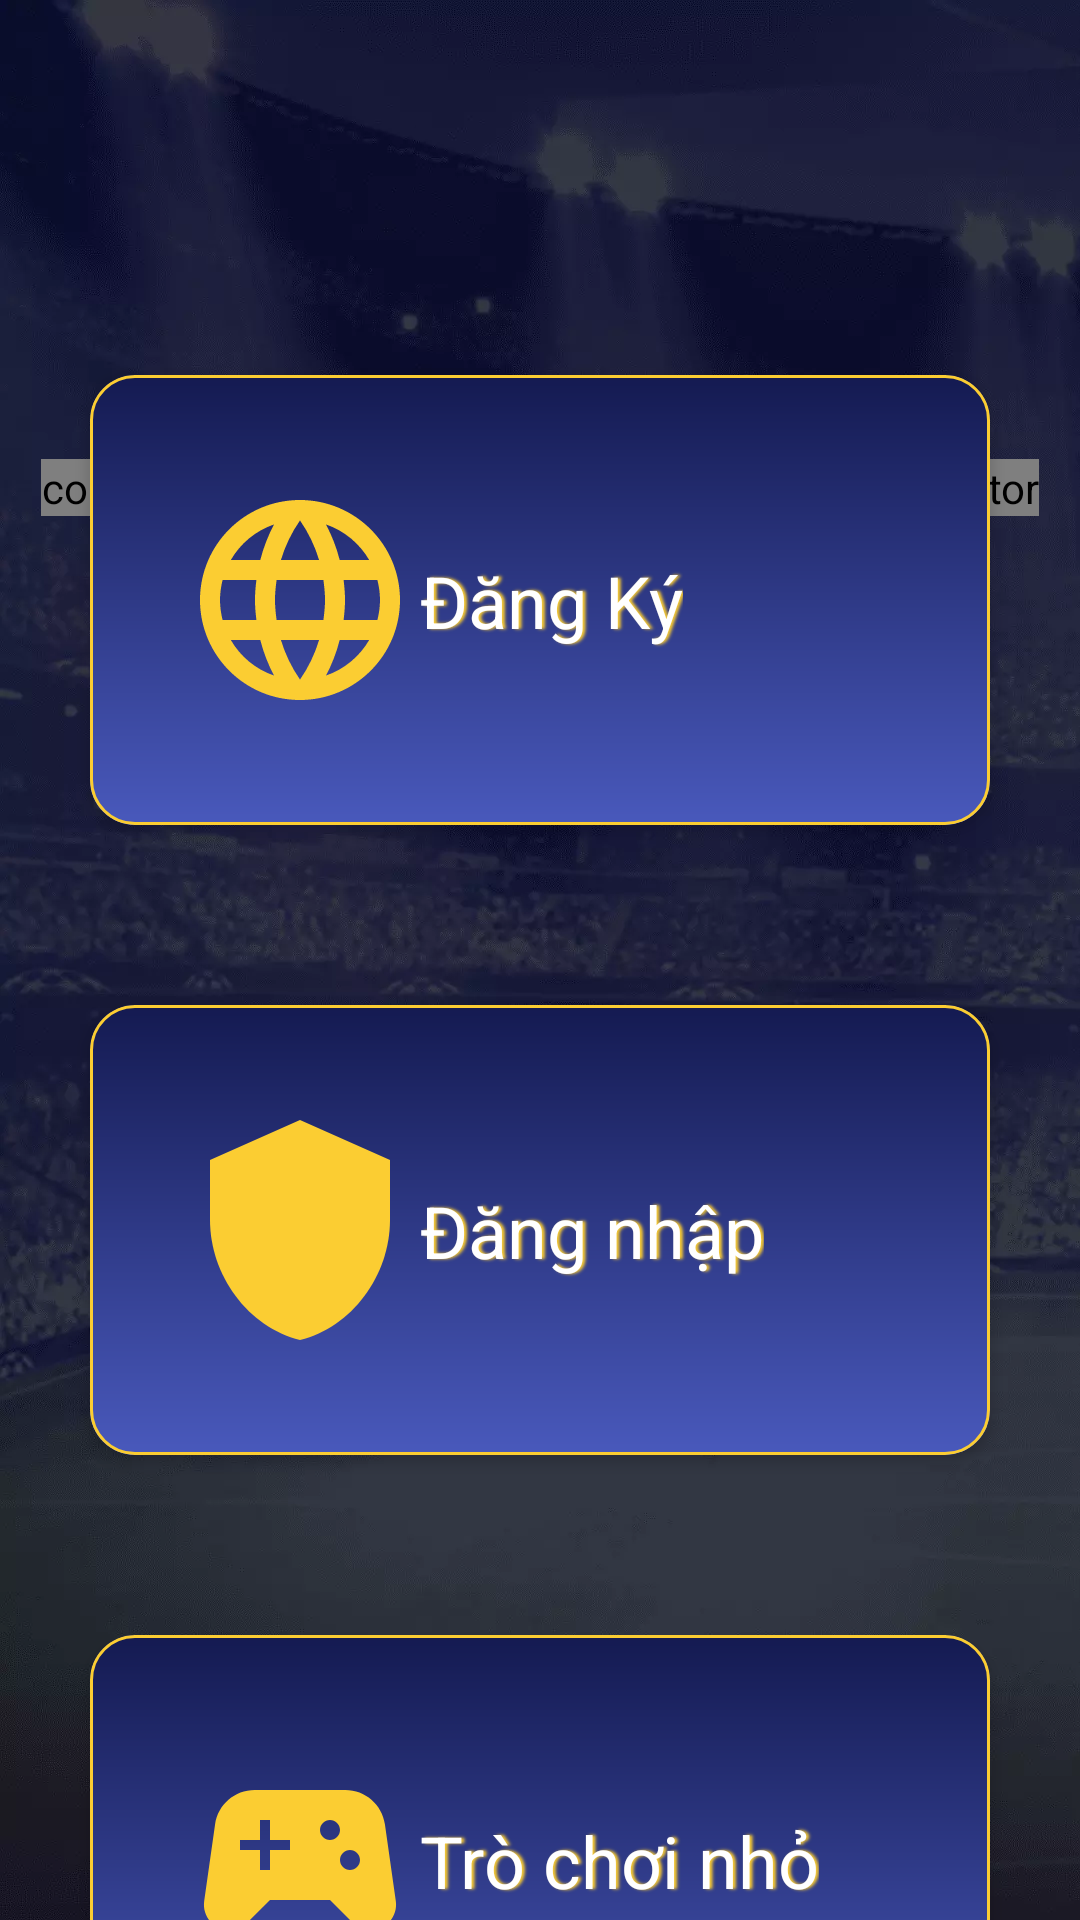

Point at icon controls on the screen. Image size 1080×1920, points as (x,y).
privacy: (300,1230)
web: (300,600)
